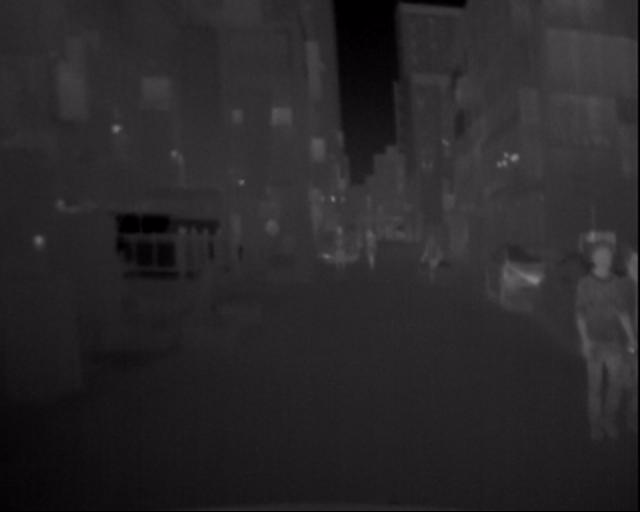person: (597, 240, 623, 450), (426, 229, 446, 273)
